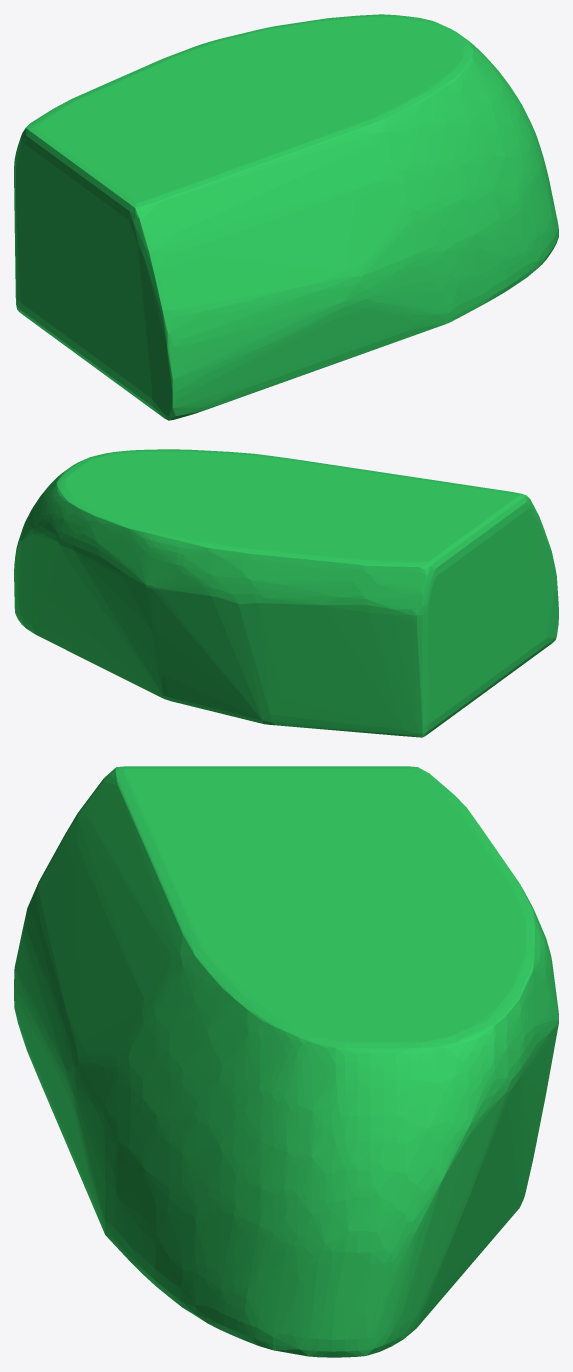
The model's file is left-elbow-0_part_36.obj.
3 renders of one model, top to bottom at view 1: azimuth 30°, elevation 25°; view 2: azimuth 150°, elevation 25°; view 3: azimuth 270°, elevation 25°, orthographic. The views are drawn at different scales.
Size of the model in its own units: 0.0553 by 0.0204 by 0.0382.
